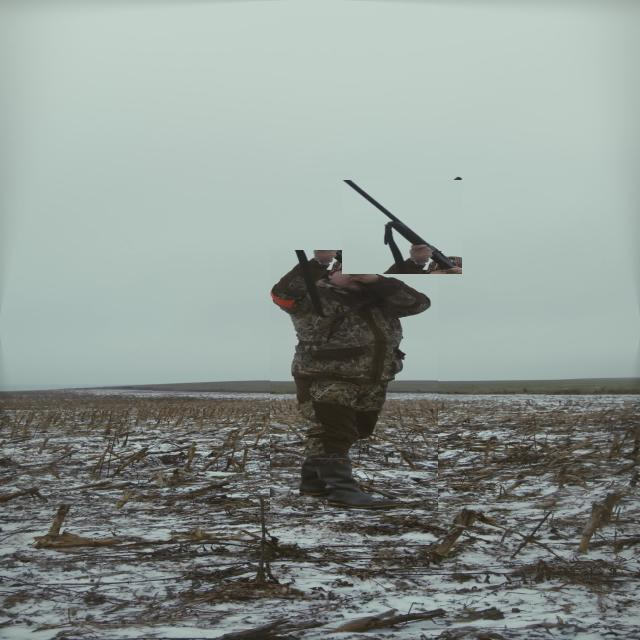poacher: (270, 250, 438, 511)
weapon: (342, 180, 462, 274)
